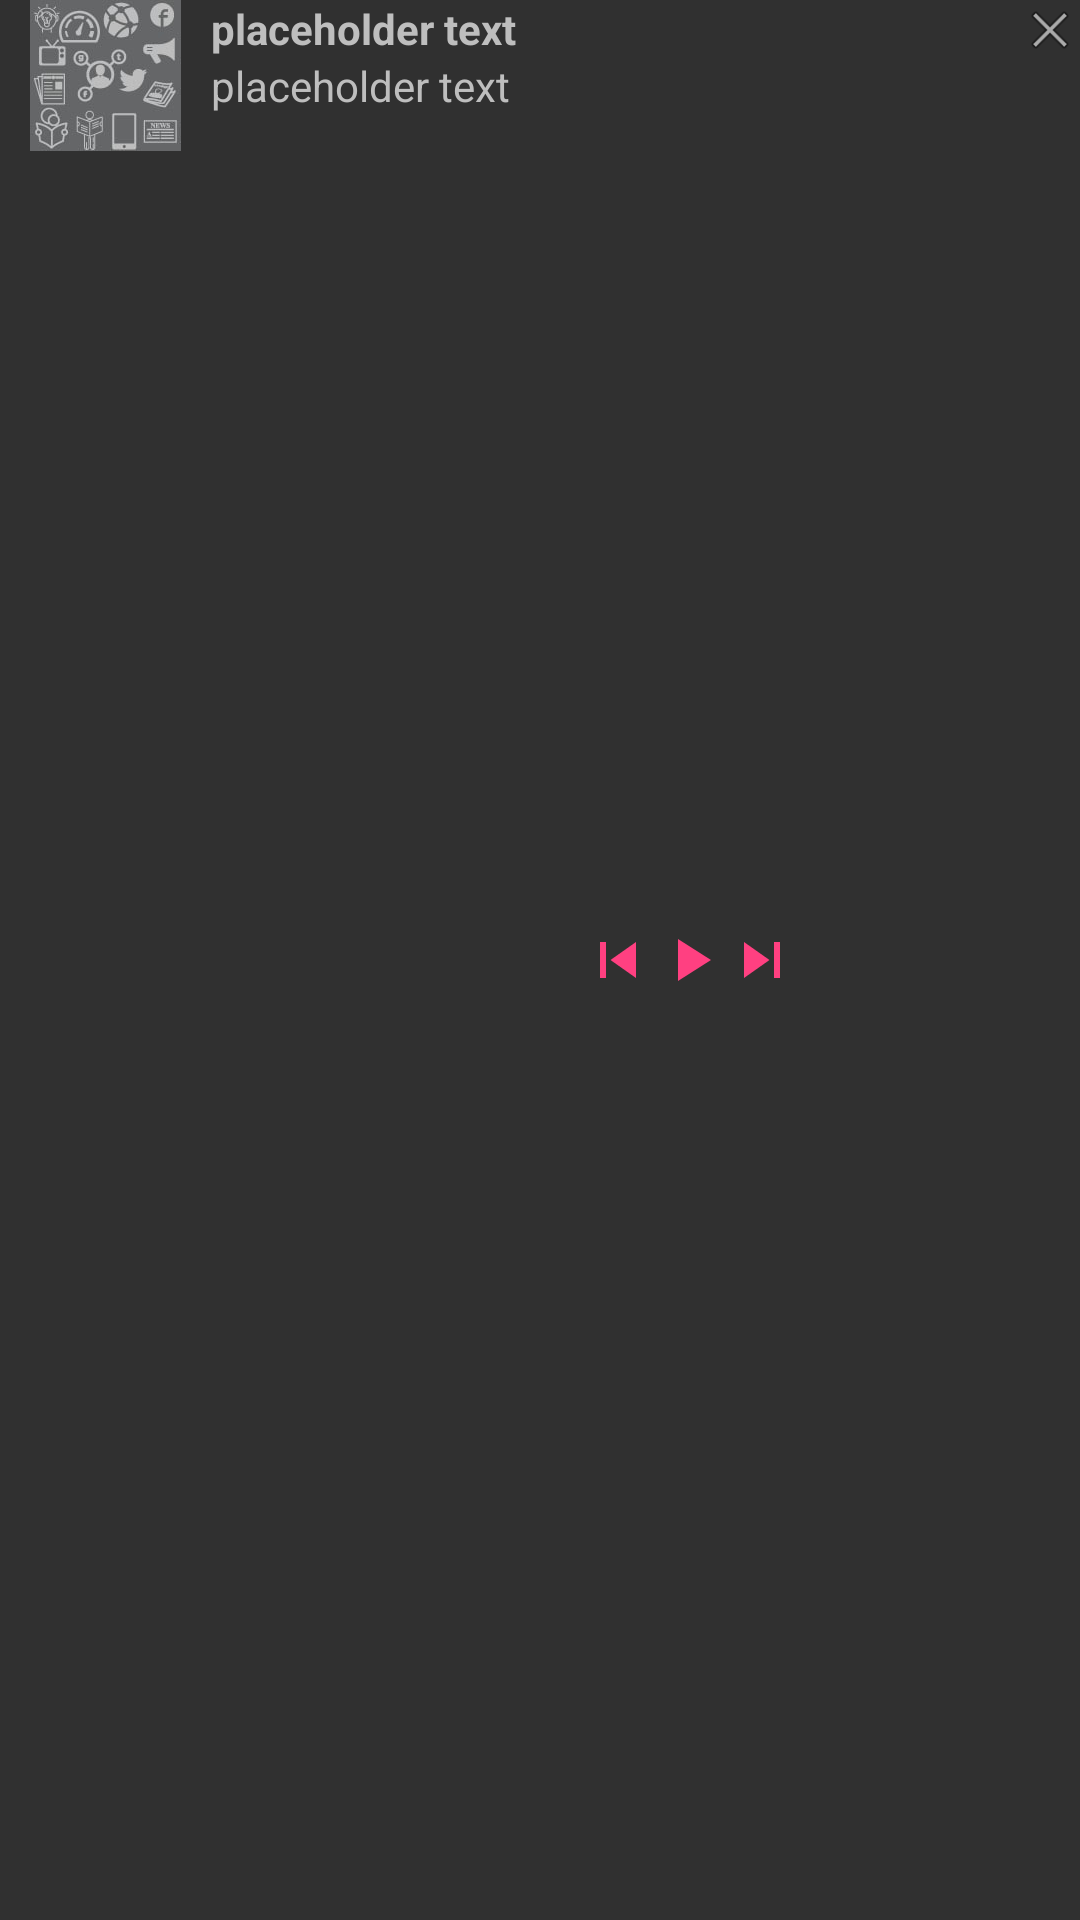

Icon bounding boxes for this 1080w x 1920h phone screenshot, format (x1, y1, x2, y2):
close clear cancel: (1033, 13, 1067, 47)
play: (678, 939, 711, 981)
Skip: (744, 942, 780, 978)
skip previous: (600, 942, 636, 978)
